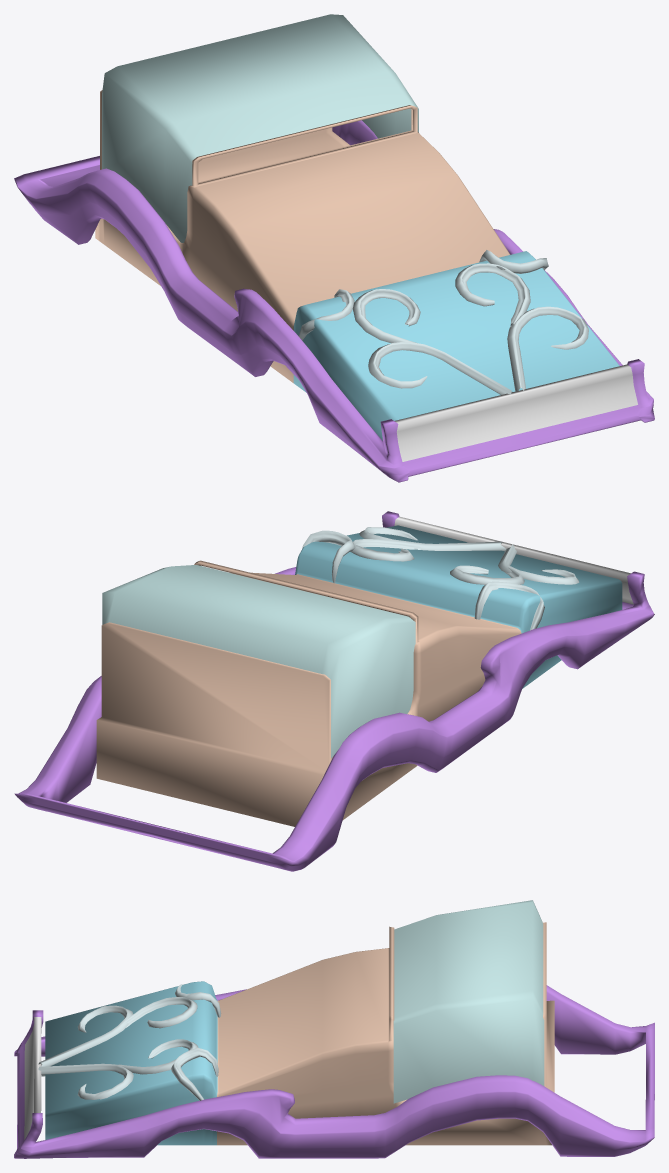
Rendered from MVP.Car.Speedy.01.fbx.
The picture shows the model from 3 angles, top to bottom: view 1: azimuth 30°, elevation 25°; view 2: azimuth 150°, elevation 25°; view 3: azimuth 270°, elevation 25°; orthographic projection. The views are drawn at different scales.
Parts seen in each view (by area): view 1: T2.01.Speed.Car; view 2: T2.01.Speed.Car; view 3: T2.01.Speed.Car.
Part boxes in pixels (box(x1,y1,x2,y2)): T2.01.Speed.Car: box(14, 14, 654, 482); T2.01.Speed.Car: box(14, 511, 654, 871); T2.01.Speed.Car: box(14, 900, 654, 1158).
Bounding box in the file's own units: 351 × 226 × 821.
